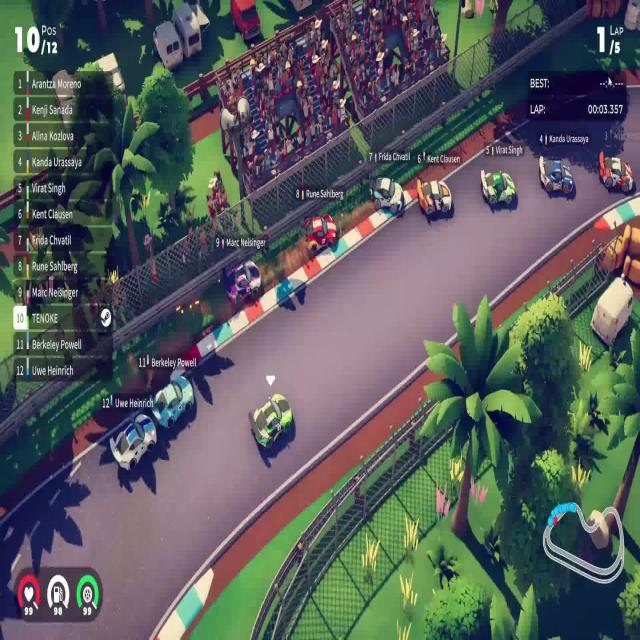car: (108, 412, 157, 472), (250, 392, 294, 452), (150, 374, 195, 431), (302, 212, 338, 258), (226, 259, 262, 305), (598, 150, 635, 194), (369, 174, 406, 218), (416, 176, 452, 219), (538, 154, 574, 196), (480, 167, 516, 208)
